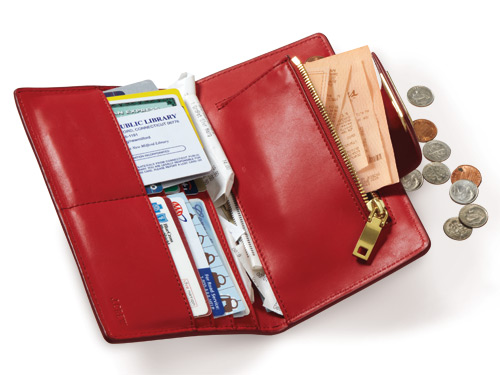monedero: (12, 30, 435, 345)
